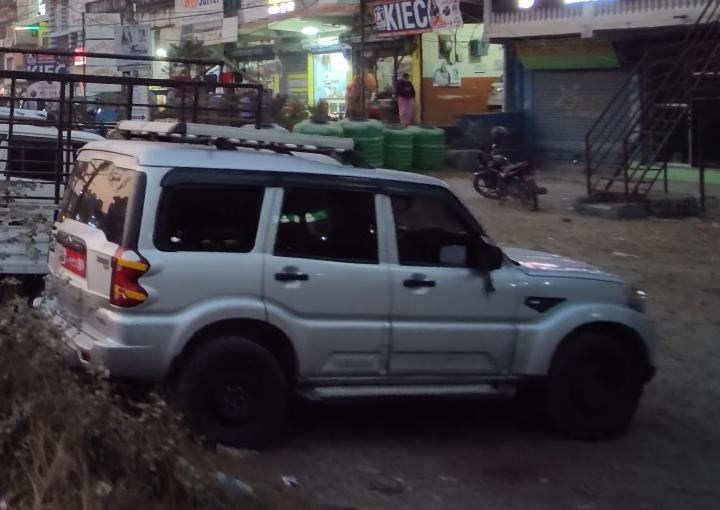SUV: (35, 102, 658, 445)
bike: (469, 138, 548, 211)
